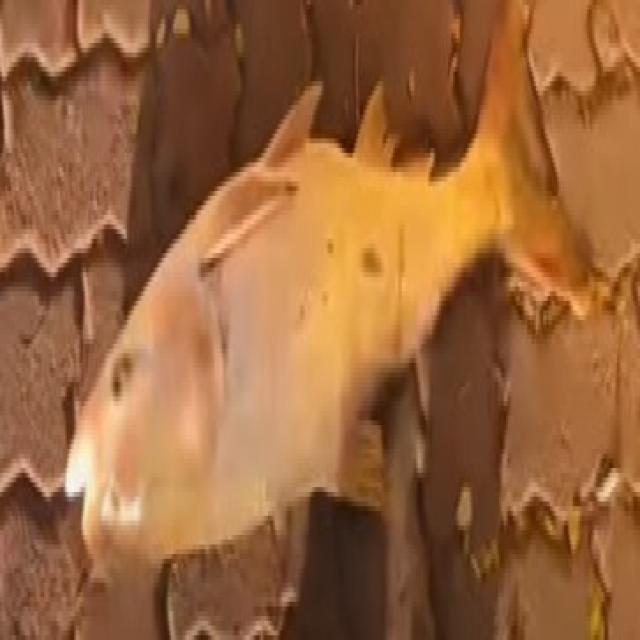Big-Head-Carp: (15, 28, 614, 601)
